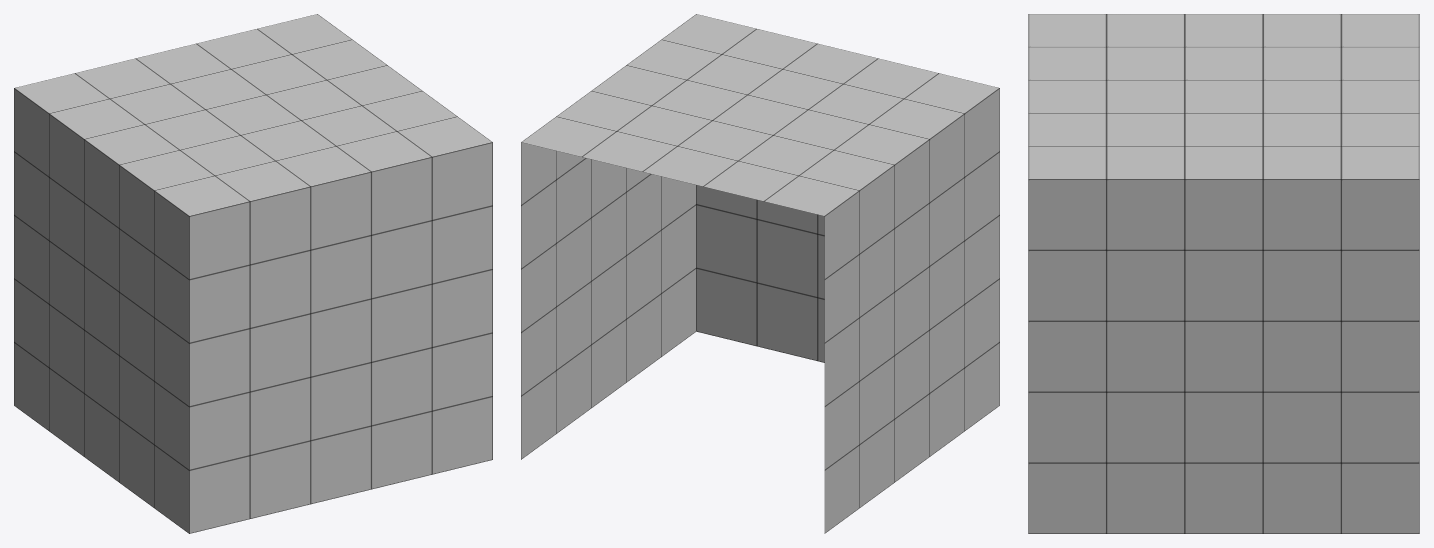
The model's file is unique_platform.fbx.
The picture shows the model from 3 angles, left to right: view 1: azimuth 30°, elevation 25°; view 2: azimuth 150°, elevation 25°; view 3: azimuth 270°, elevation 25°; orthographic projection. The views are drawn at different scales.
Parts seen in each view (by area): view 1: Cube; view 2: Cube; view 3: Cube.
Boxes of the visible parts, x1,y1,x2,y2 form: Cube: (14, 14, 492, 533); Cube: (521, 14, 999, 533); Cube: (1028, 14, 1419, 533).
Bounding box in the file's own units: 2 × 2 × 2.
